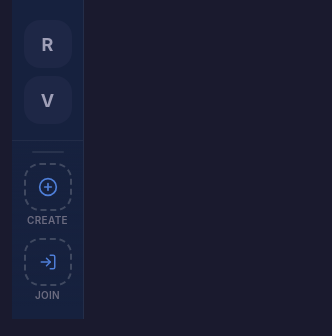
Test: ServerSidebar leave actions › hides Leave Server for the official community even if its name changes
Right-click the button named "Renamed Community" at x=48, y=44, box [24,20,72,68]
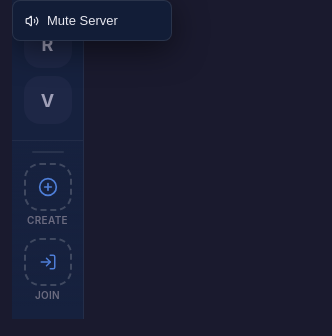
Now the button "Mute Server" is shown, box [13,5,171,36]
